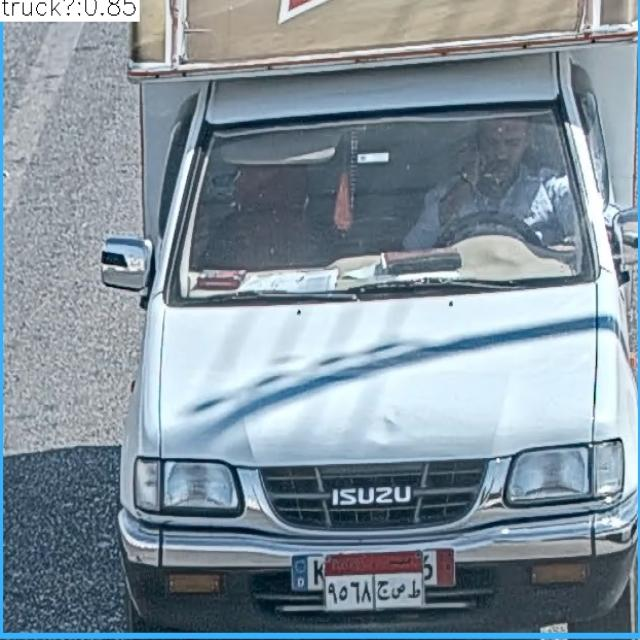windshield: (183, 101, 594, 286)
